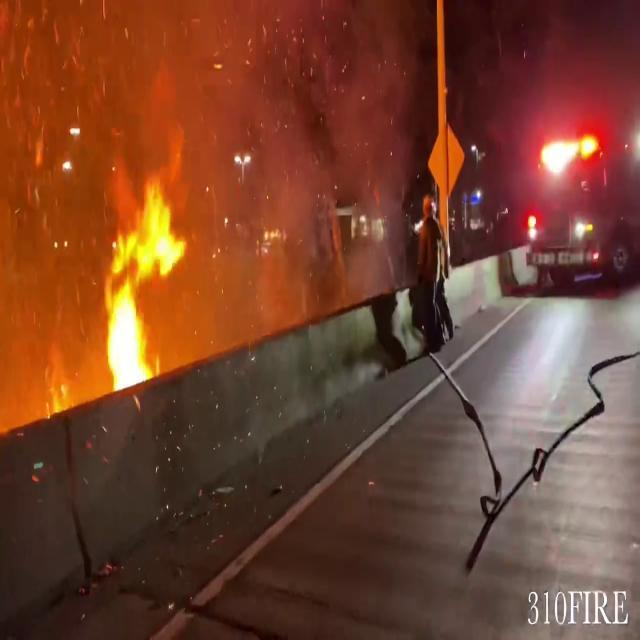Fire: (98, 161, 181, 396)
Smoke: (0, 0, 418, 332)
